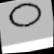no answer: (5, 0, 47, 33)
